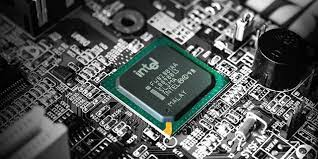processor: (99, 33, 233, 138)
